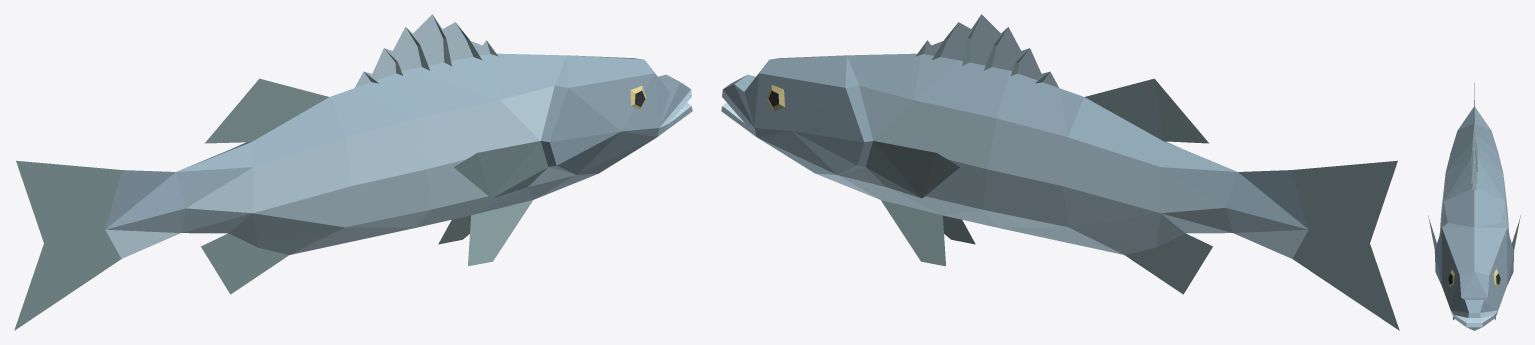
File: Sea Bass.fbx
The picture shows the model from 3 angles, left to right: view 1: azimuth 30°, elevation 25°; view 2: azimuth 150°, elevation 25°; view 3: azimuth 270°, elevation 25°; orthographic projection. The views are drawn at different scales.
Visible parts, largest first — view 1: Sea Bass; view 2: Sea Bass; view 3: Sea Bass.
Part boxes in pixels (box(x1,y1,x2,y2)): Sea Bass: box(14, 14, 692, 330); Sea Bass: box(721, 14, 1399, 330); Sea Bass: box(1428, 83, 1520, 330).
Bounding box in the file's own units: 2.61 × 0.9186 × 0.4332.
